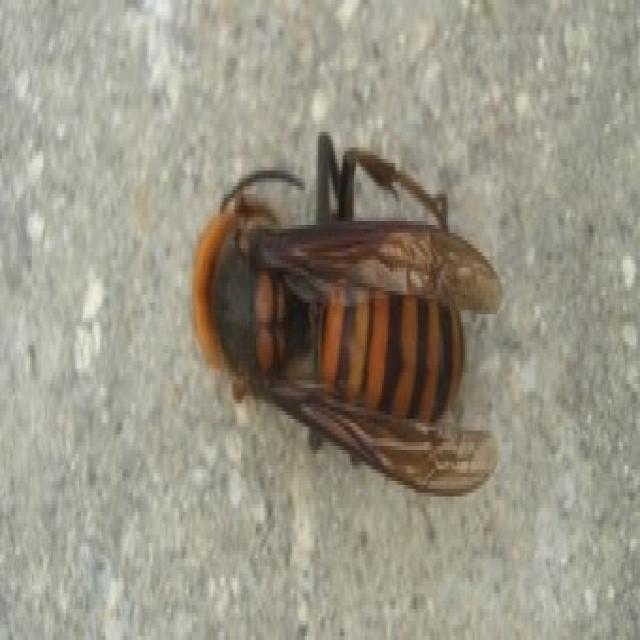Wasp: (186, 116, 500, 501)
